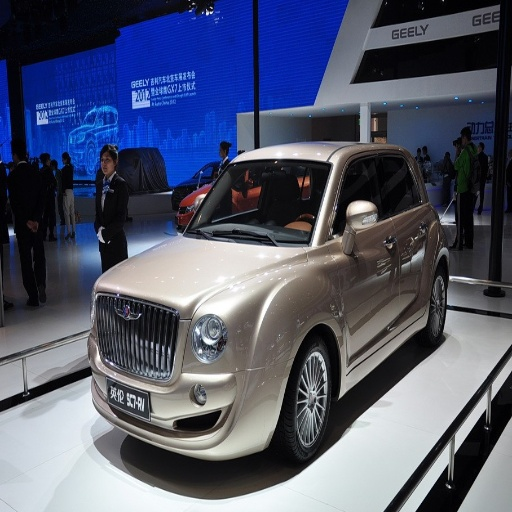front_bumper: (89, 292, 293, 459)
front_glass: (182, 160, 333, 245)
front_left_door: (330, 152, 400, 367)
